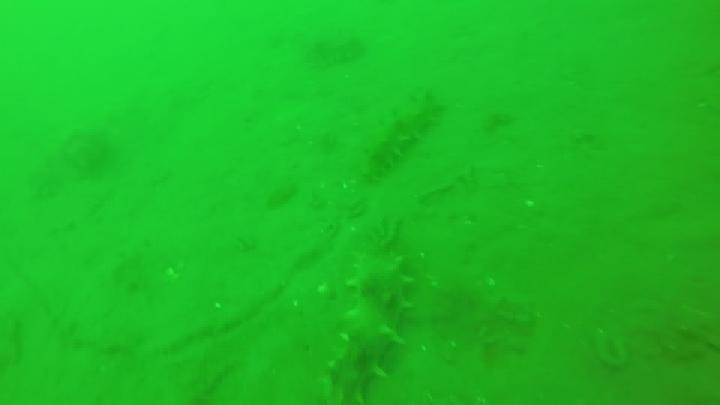holothurian: (322, 243, 415, 404), (358, 89, 446, 185), (304, 31, 368, 70)
